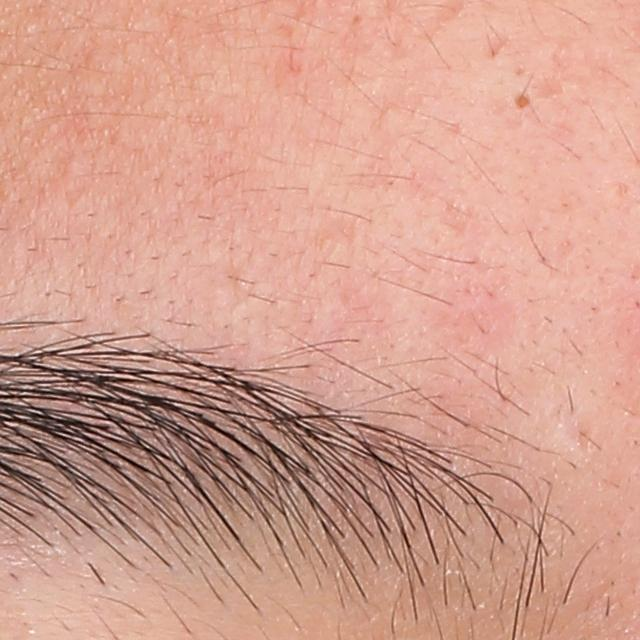atrophic_scar: (527, 46, 603, 100), (479, 28, 517, 58)
comedo: (506, 86, 538, 121)
